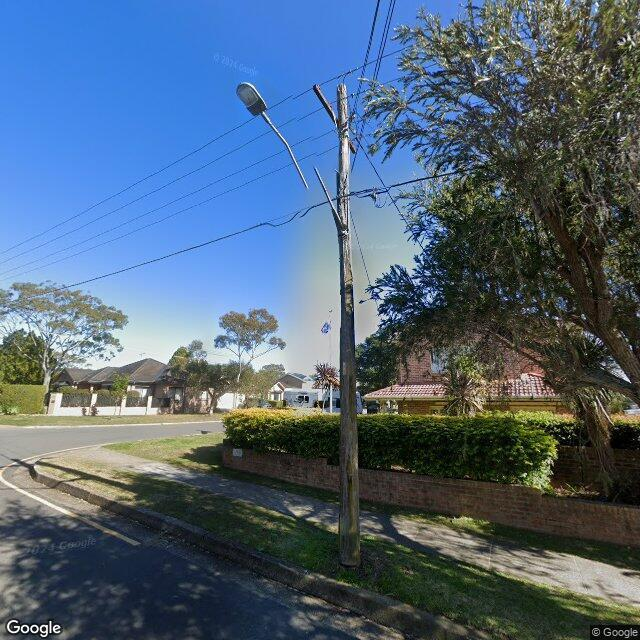crossarm: (313, 84, 356, 154)
streetlight: (236, 82, 346, 232)
timber-pole: (337, 83, 361, 564)
